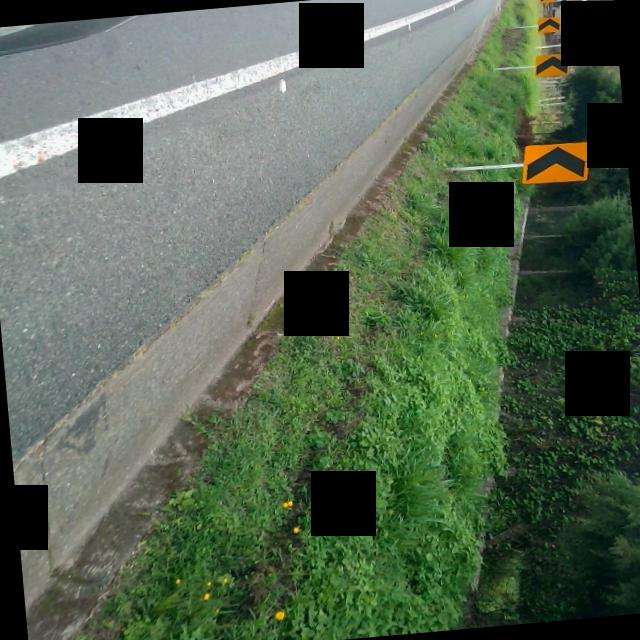DITCH: (0, 0, 569, 640), (0, 0, 567, 640)
